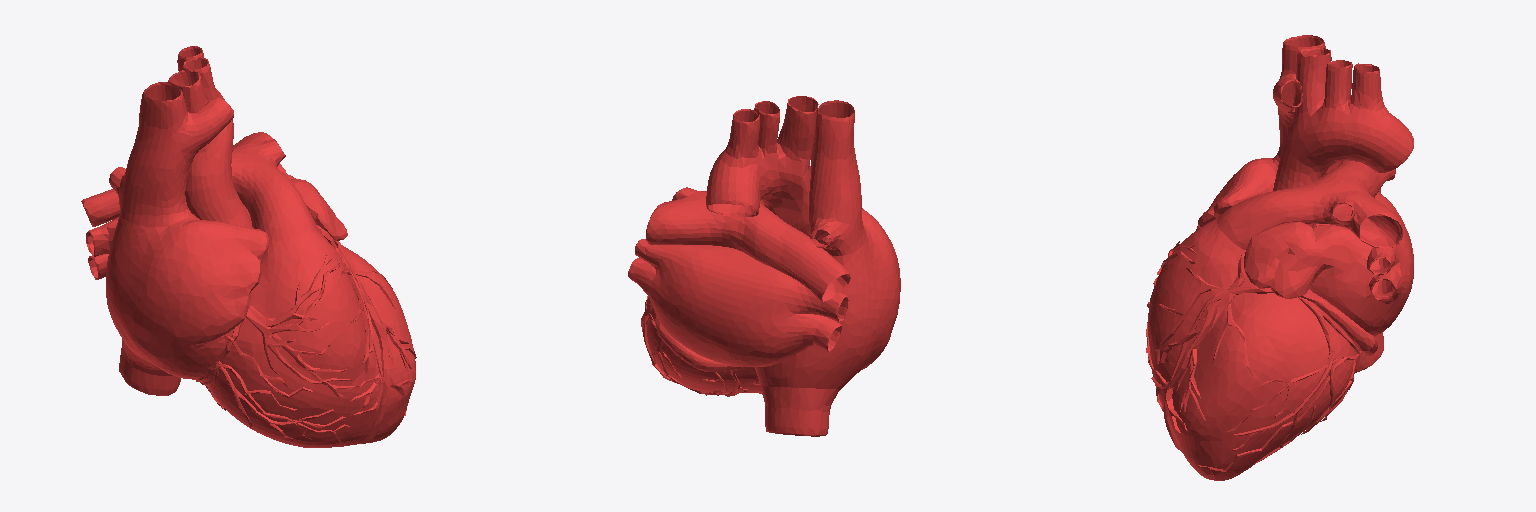
File: heart-simple.obj
3 renders of one model, left to right at view 1: azimuth 30°, elevation 25°; view 2: azimuth 150°, elevation 25°; view 3: azimuth 270°, elevation 25°, orthographic.
Bounding box in the file's own units: 88.45 × 121 × 81.35.